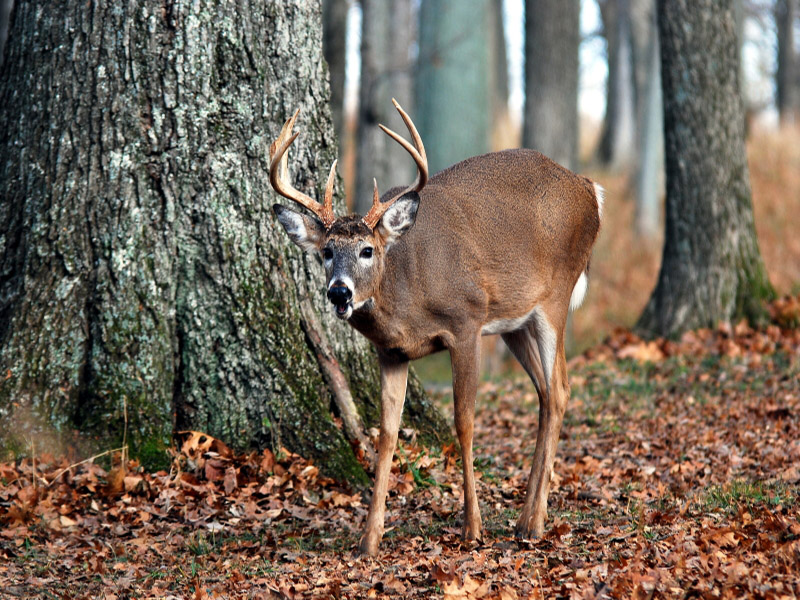cervo: (265, 87, 605, 556)
